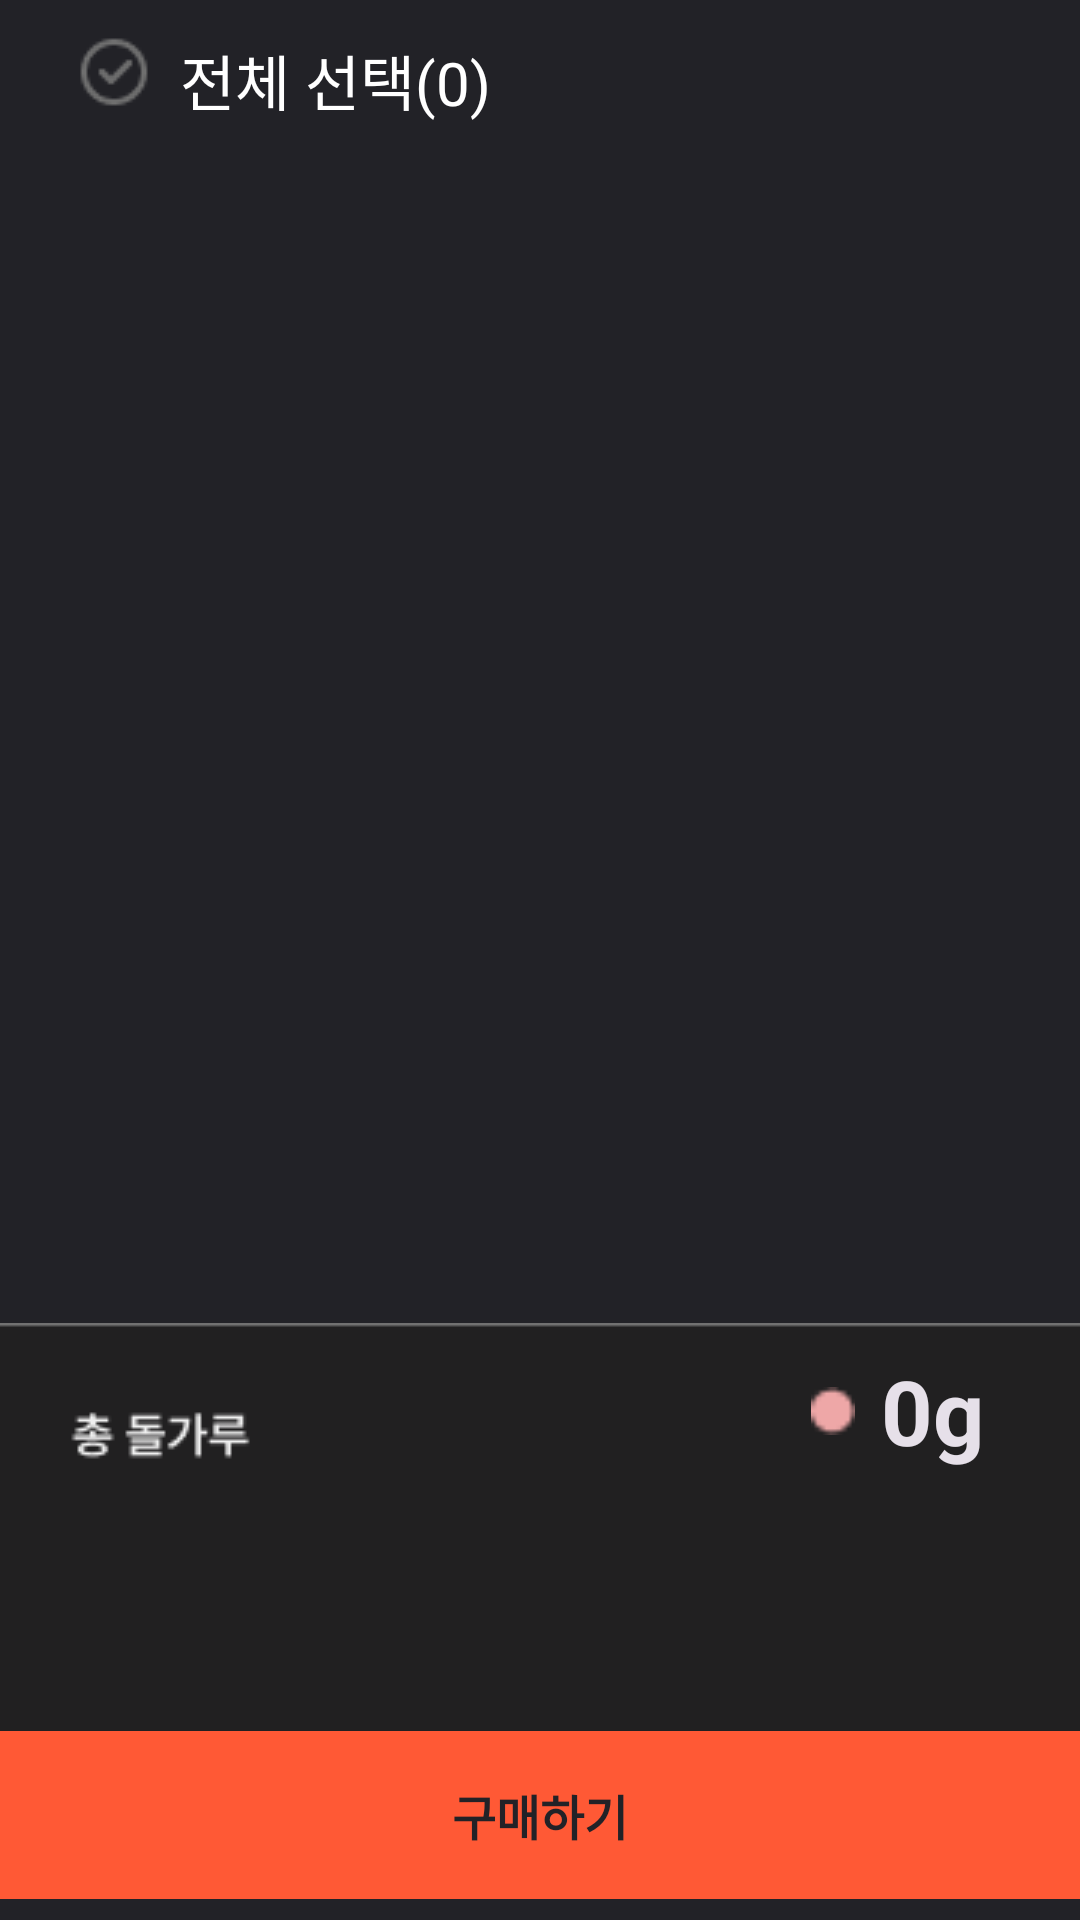

Named icons in this screenshot (1080 x 1920) and their centers, (x=x, y=y):
check: (x=114, y=72)
